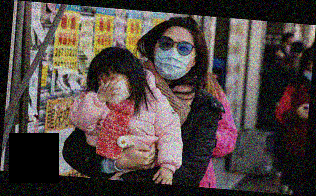with_mask: (152, 36, 196, 80), (96, 74, 131, 104), (301, 65, 312, 82)
